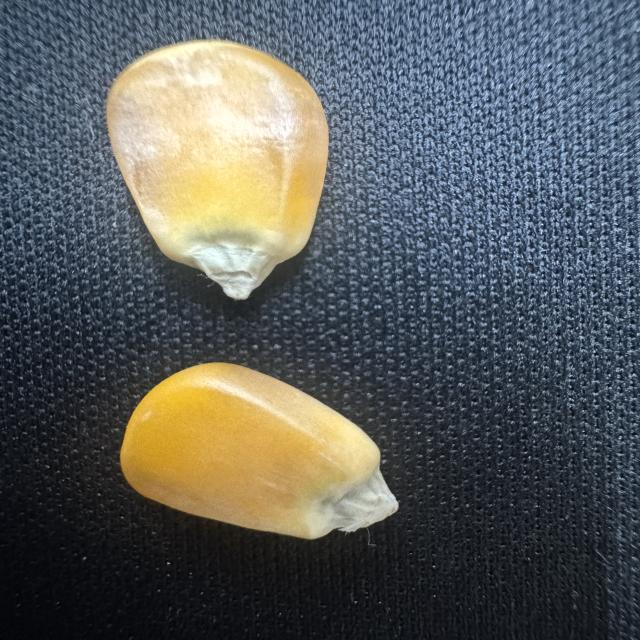Good-Seed: (92, 29, 340, 306), (112, 354, 410, 550)
